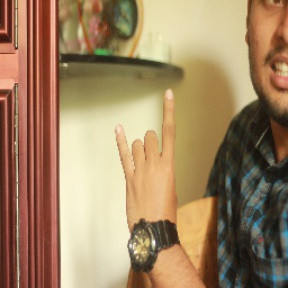V: (112, 85, 183, 230)
